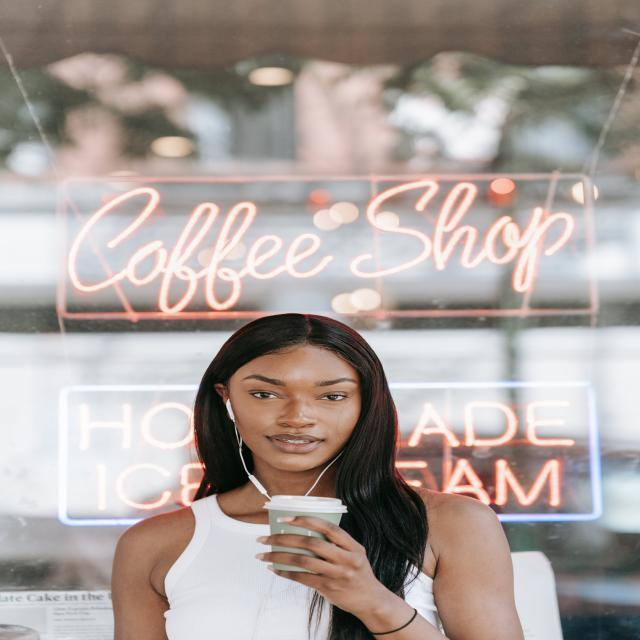cup: (0, 169, 637, 318), (263, 492, 349, 576)
